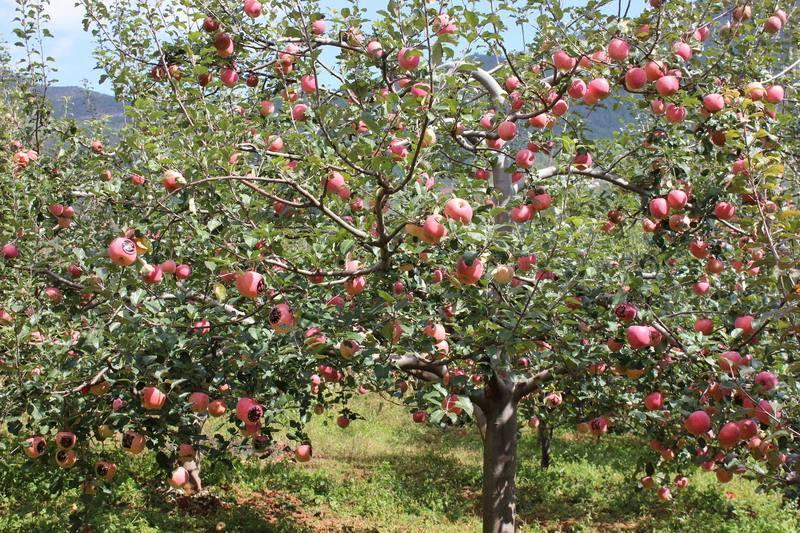apple: (104, 234, 137, 267), (456, 253, 485, 287), (229, 269, 265, 296), (235, 397, 265, 426), (682, 407, 711, 436), (444, 196, 472, 225), (754, 368, 779, 396), (423, 215, 447, 243), (717, 421, 740, 446), (26, 433, 47, 459), (187, 392, 207, 414), (703, 92, 724, 112), (498, 120, 517, 140), (245, 1, 264, 17)
